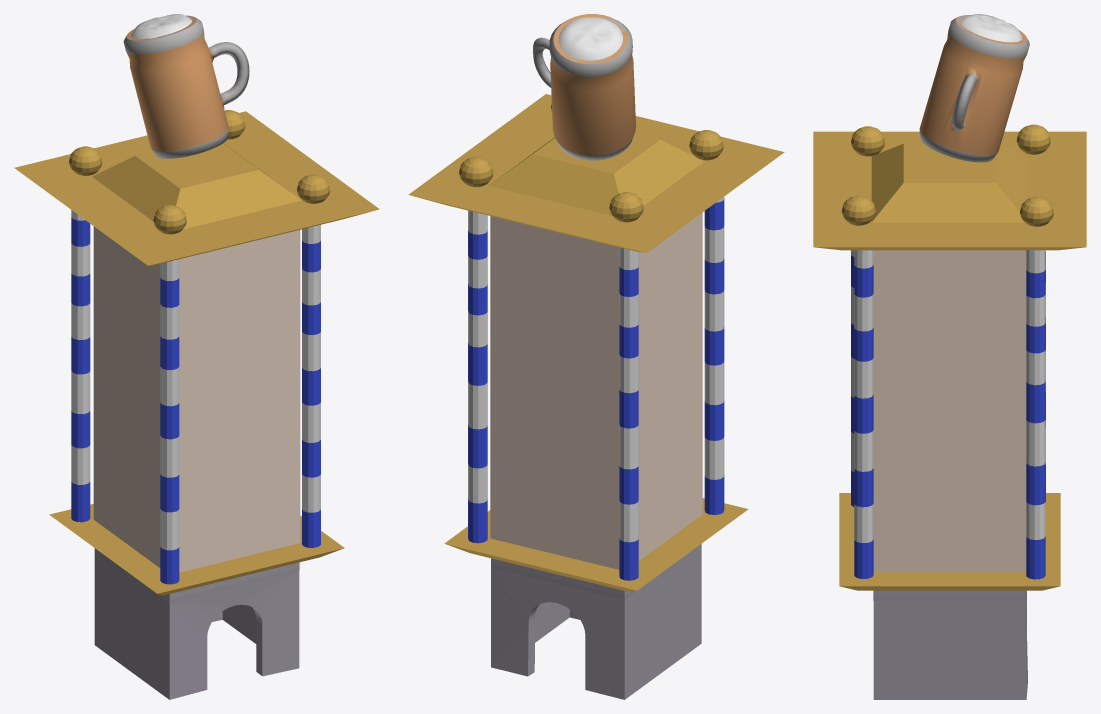
File: Paulaner.fbx
3 renders of one model, left to right at view 1: azimuth 30°, elevation 25°; view 2: azimuth 150°, elevation 25°; view 3: azimuth 270°, elevation 25°, orthographic. The views are drawn at different scales.
Parts seen in each view (by area): view 1: Circle_003, Circle; view 2: Circle_003, Circle; view 3: Circle_003, Circle.
Part boxes in pixels (x1,y1,x2,y2): Circle_003: (14, 110, 379, 699); Circle: (123, 14, 249, 158); Circle_003: (408, 94, 784, 699); Circle: (533, 14, 635, 160); Circle_003: (813, 124, 1086, 699); Circle: (919, 14, 1029, 162).
Bounding box in the file's own units: 6.77 × 17.55 × 6.77.
